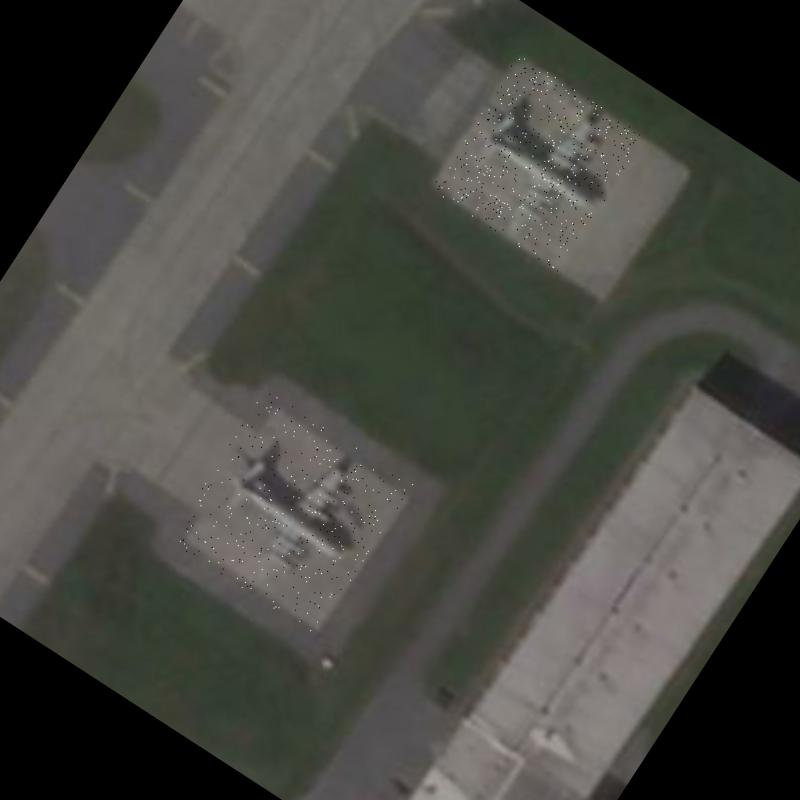A9: (167, 389, 414, 636), (430, 53, 646, 272)
